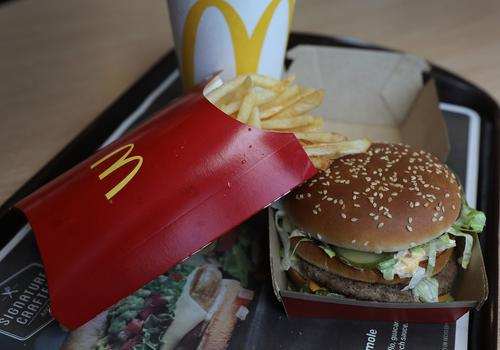mcdonalds: (90, 133, 149, 207)
